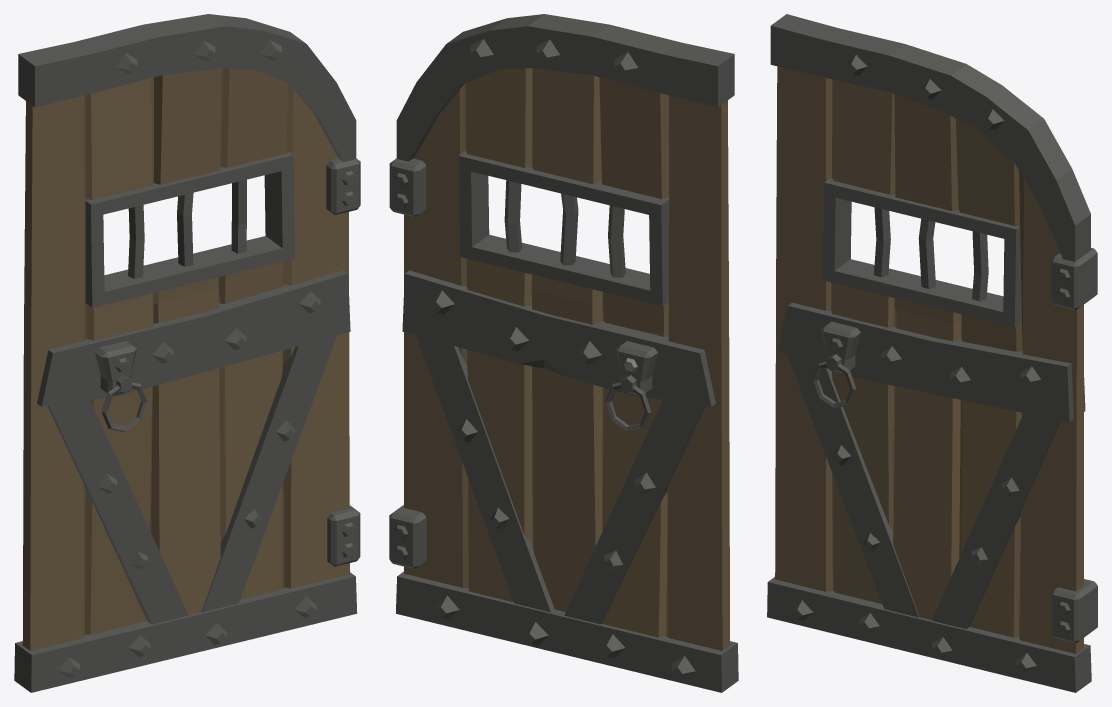
Rendered from rpgpp_ag_door_gate_01_right.fbx.
3 renders of one model, left to right at view 1: azimuth 30°, elevation 25°; view 2: azimuth 150°, elevation 25°; view 3: azimuth 330°, elevation 25°, orthographic. The views are drawn at different scales.
Visible parts, largest first — view 1: rpgpp_ag_door_gate_01_right; view 2: rpgpp_ag_door_gate_01_right; view 3: rpgpp_ag_door_gate_01_right.
Boxes of the visible parts, box(x1,y1,x2,y2) form: rpgpp_ag_door_gate_01_right: box(14, 14, 360, 692); rpgpp_ag_door_gate_01_right: box(389, 14, 738, 692); rpgpp_ag_door_gate_01_right: box(767, 14, 1097, 692).
Bounding box in the file's own units: 2.04 × 3.7 × 0.4666.
